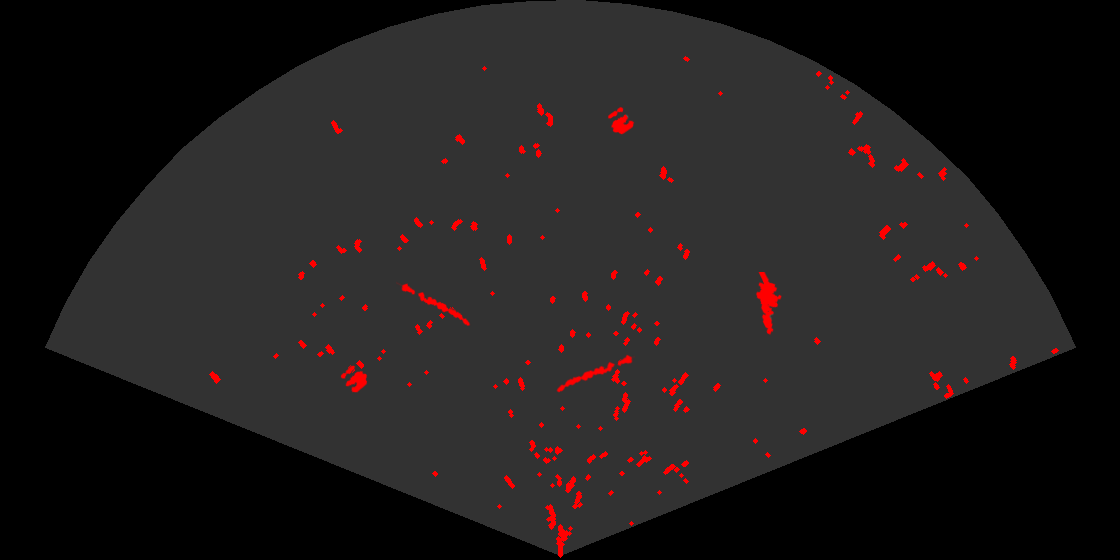ball: (606, 105, 636, 136), (339, 364, 369, 394)
chain: (396, 280, 472, 328), (555, 353, 635, 394)
frogman: (754, 272, 783, 336)
